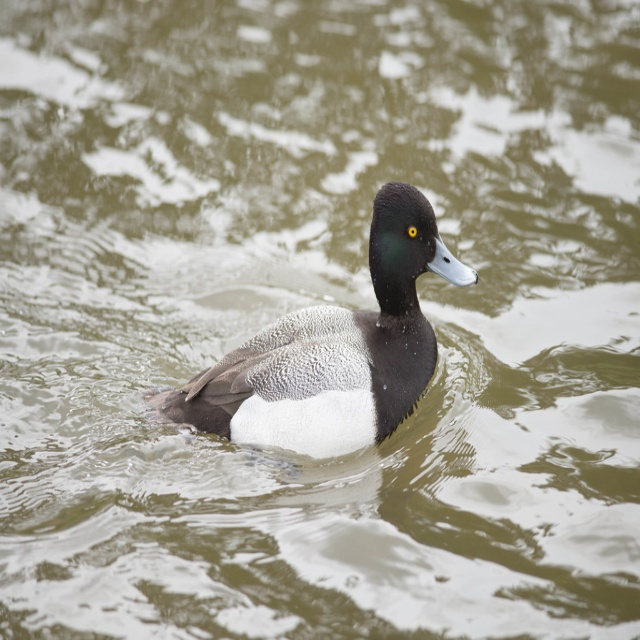Duck: (144, 181, 478, 459)
